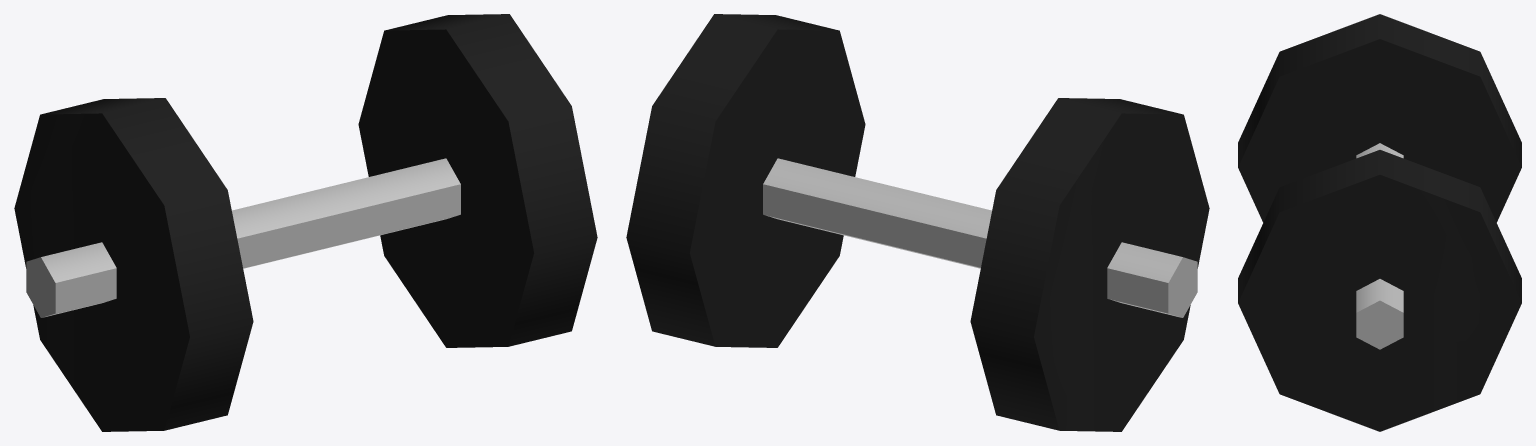
The model's file is dumbbell_001.glb.
The picture shows the model from 3 angles, left to right: view 1: azimuth 30°, elevation 25°; view 2: azimuth 150°, elevation 25°; view 3: azimuth 270°, elevation 25°; orthographic projection. The views are drawn at different scales.
Parts seen in each view (by area): view 1: dumbbell_001; view 2: dumbbell_001; view 3: dumbbell_001.
Part boxes in pixels (x1,y1,x2,y2): dumbbell_001: [14, 14, 597, 431]; dumbbell_001: [626, 14, 1209, 431]; dumbbell_001: [1238, 14, 1521, 431].
Size of the model in its own units: 0.3991 by 0.2318 by 0.2318.
Materials: 1 (1 with a texture image).
